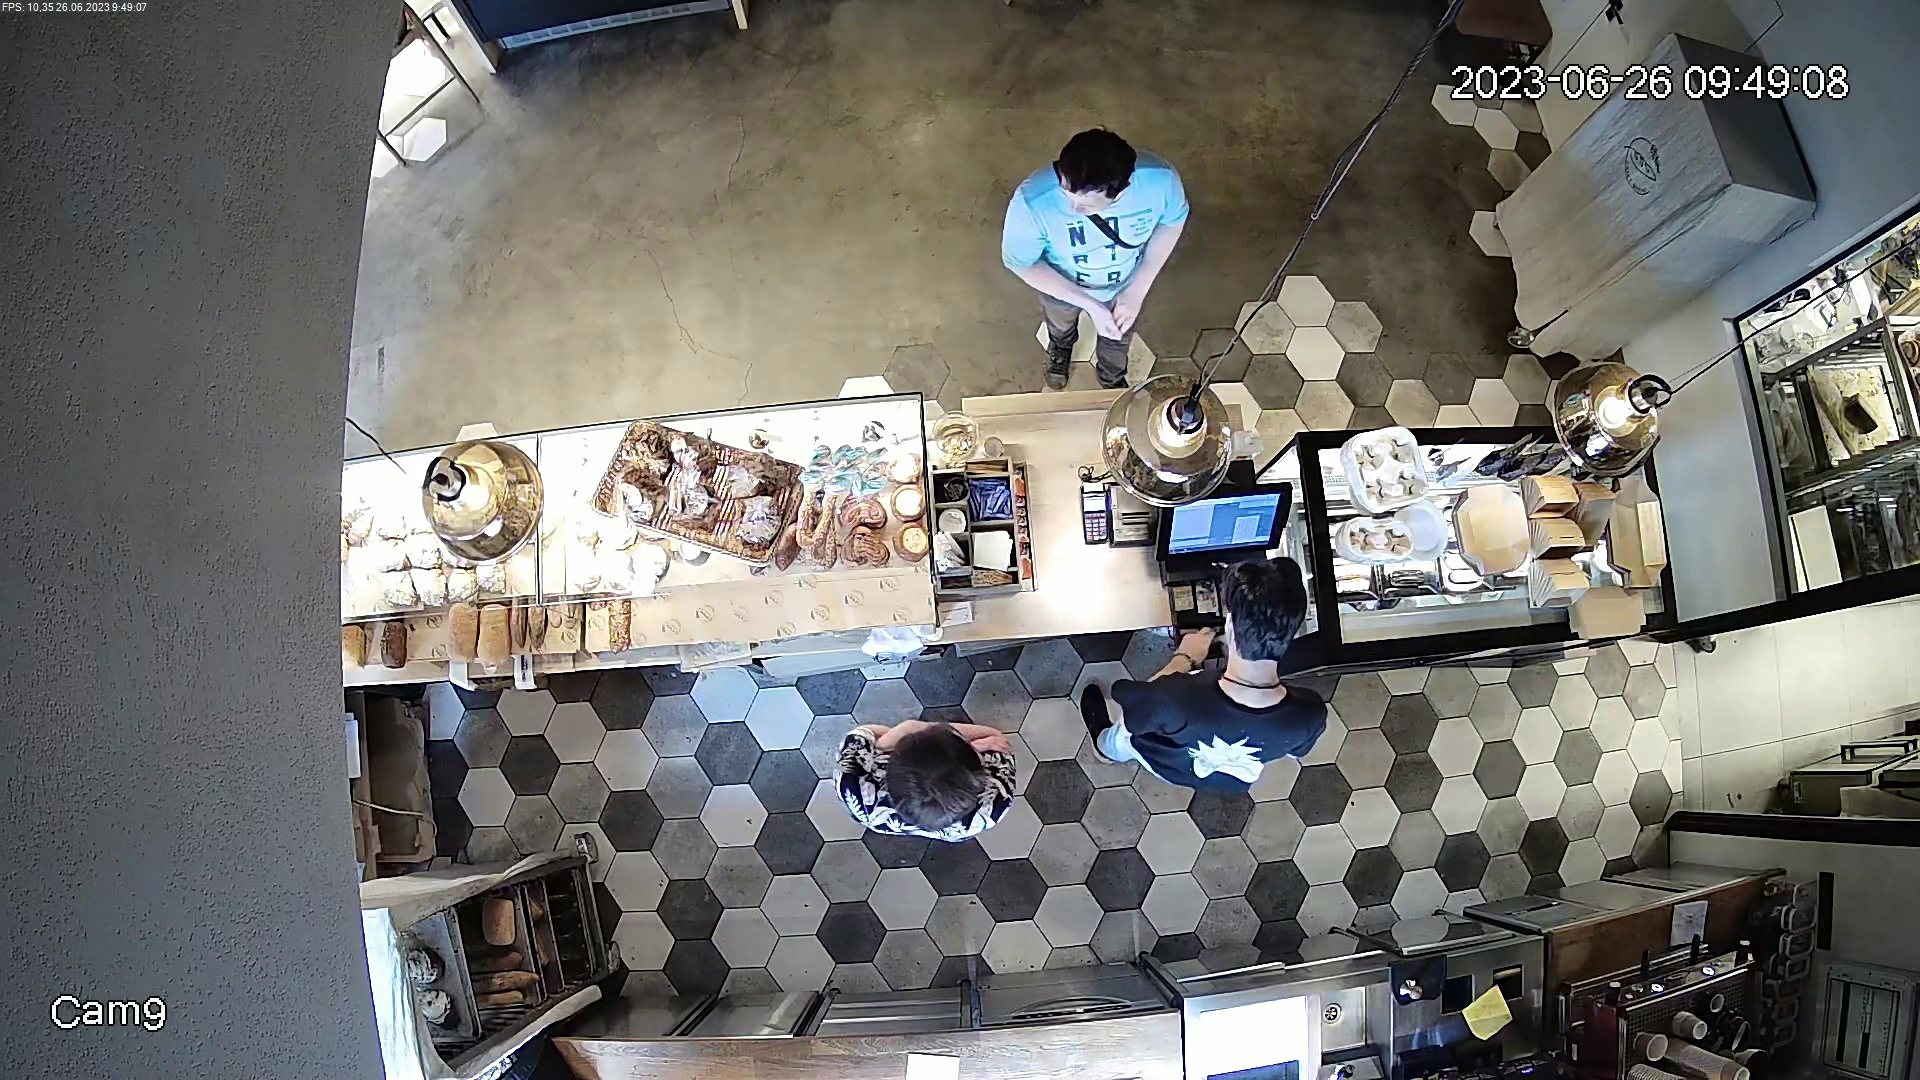openedcash: (1154, 479, 1308, 651)
person: (823, 716, 1041, 849)
